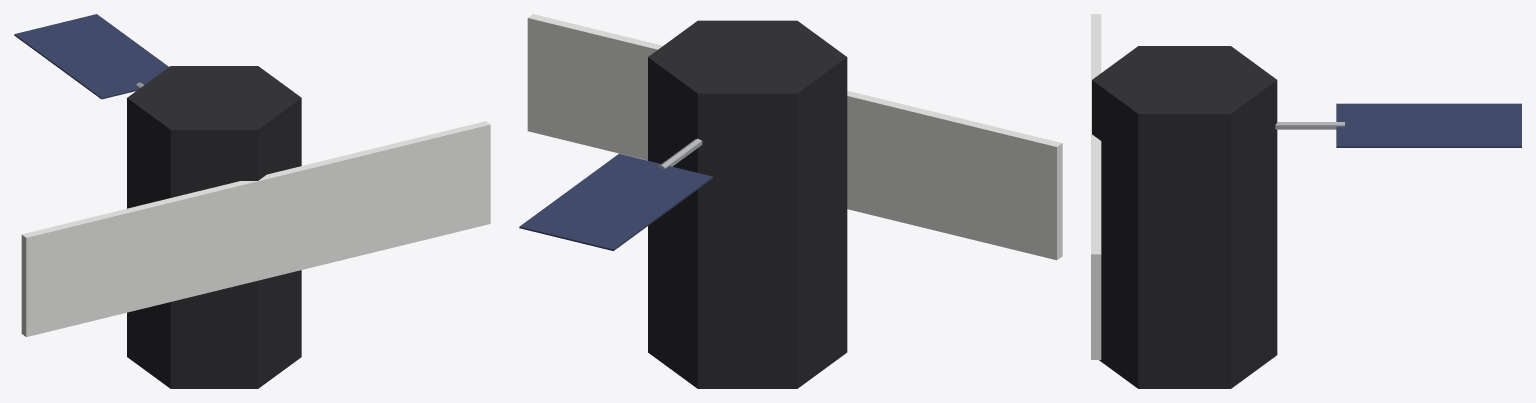
Rendered from radarsat.glb.
The picture shows the model from 3 angles, left to right: view 1: azimuth 30°, elevation 25°; view 2: azimuth 150°, elevation 25°; view 3: azimuth 270°, elevation 25°; orthographic projection. The views are drawn at different scales.
Parts seen in each view (by area): view 1: radarsat; view 2: radarsat; view 3: radarsat.
Boxes of the visible parts, x1=… form: radarsat: x1=14, y1=14, x2=490, y2=388; radarsat: x1=519, y1=14, x2=1062, y2=388; radarsat: x1=1091, y1=14, x2=1521, y2=388.
Bounding box in the file's own units: 2 × 1.07 × 1.51.
